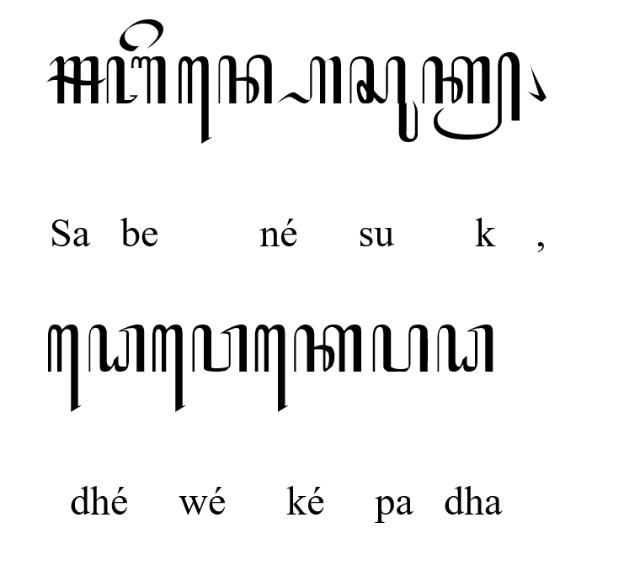-k: (422, 51, 522, 141)
S: (47, 55, 107, 104)
_h: (275, 55, 343, 107)
b: (105, 56, 167, 106)
dh: (436, 322, 494, 374), (89, 324, 147, 374)
e: (118, 18, 166, 52)
e1: (152, 324, 186, 414), (254, 324, 288, 414), (178, 55, 212, 144), (47, 324, 81, 412)
k: (293, 324, 363, 376)
kom: (525, 61, 547, 103)
n: (217, 54, 273, 104)
p: (372, 324, 430, 375)
su: (348, 55, 420, 143)
w: (192, 324, 248, 375)
